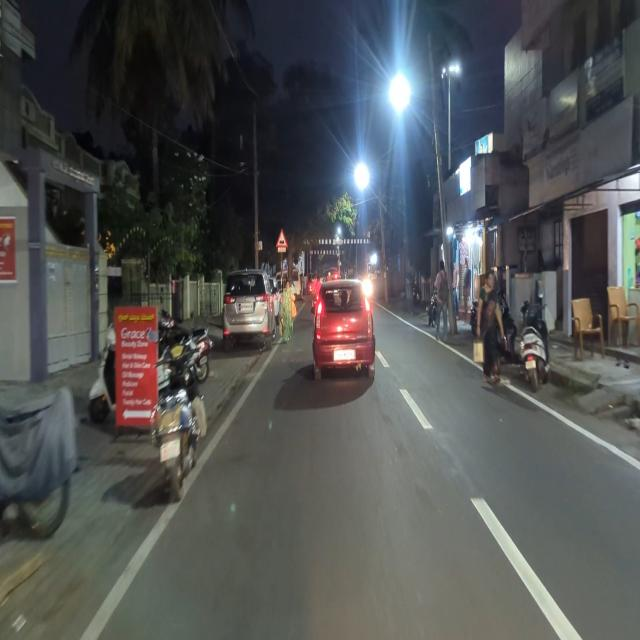bien_cam: (275, 228, 288, 249)
